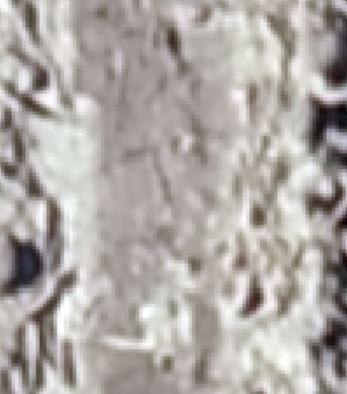cotton: (181, 261, 188, 274)
